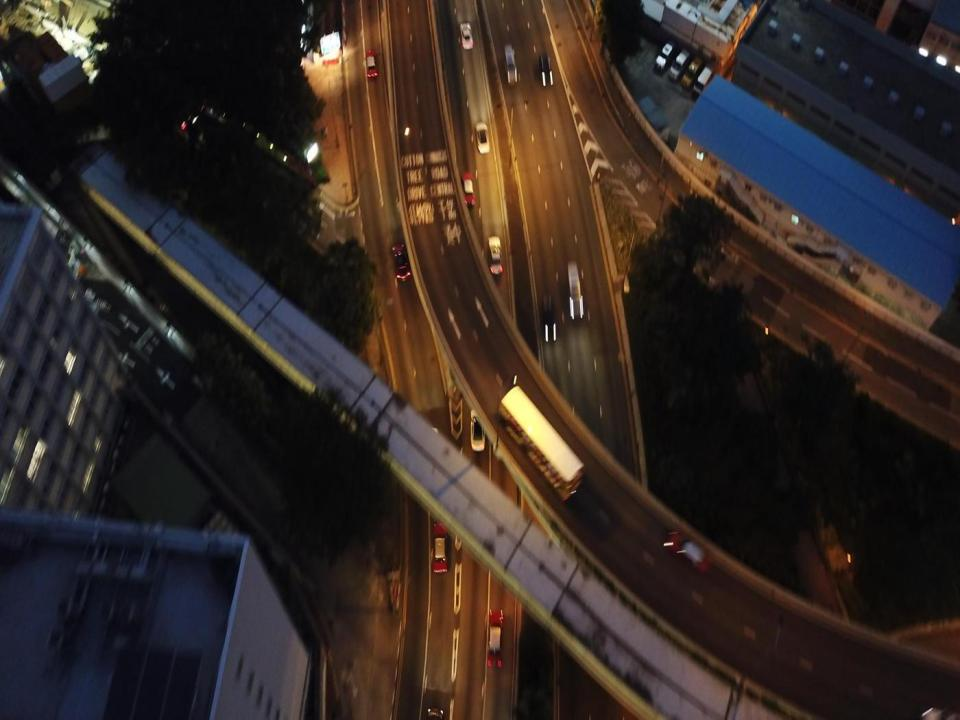bus: (499, 386, 584, 501), (470, 408, 487, 450)
car: (664, 531, 712, 573), (488, 609, 502, 667), (390, 243, 410, 282), (434, 520, 448, 573), (543, 292, 557, 341), (488, 235, 503, 275), (475, 122, 490, 154), (462, 171, 474, 207), (460, 22, 474, 49), (366, 50, 376, 78)
van: (565, 261, 585, 319), (668, 48, 690, 78), (504, 43, 518, 84), (682, 58, 702, 85), (656, 41, 674, 70), (692, 67, 712, 93), (539, 53, 553, 87)
